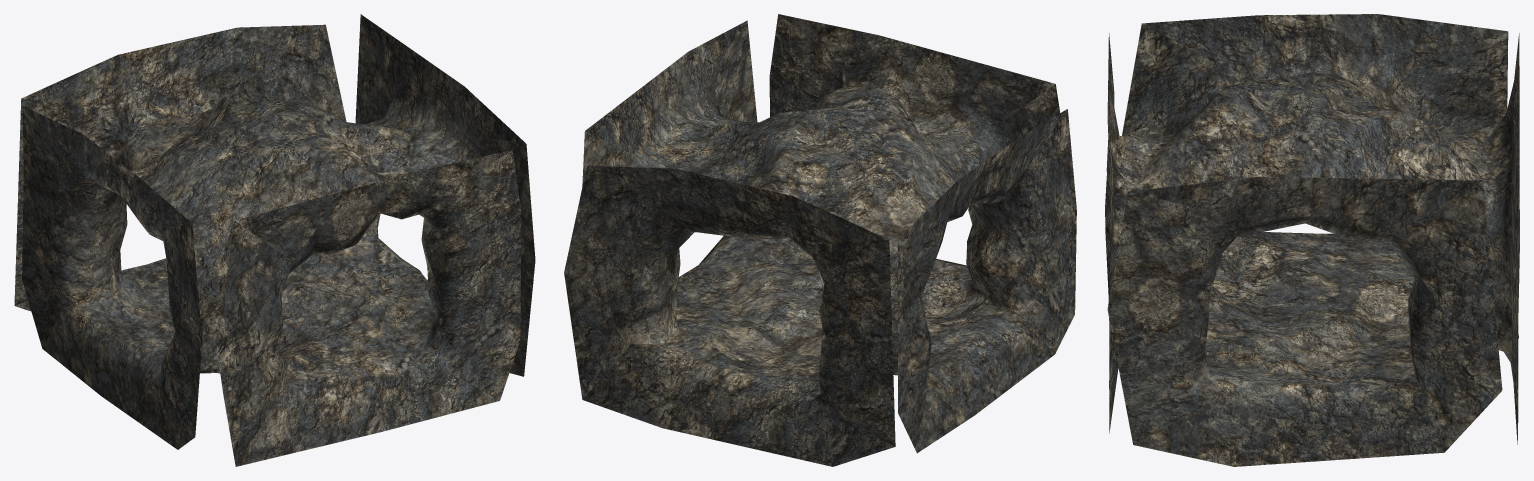
File: Module10.fbx
The picture shows the model from 3 angles, left to right: view 1: azimuth 30°, elevation 25°; view 2: azimuth 150°, elevation 25°; view 3: azimuth 270°, elevation 25°; orthographic projection. The views are drawn at different scales.
Visible parts, largest first — view 1: cave_el10_800:Group44752; view 2: cave_el10_800:Group44752; view 3: cave_el10_800:Group44752.
Part boxes in pixels (x1,y1,x2,y2): cave_el10_800:Group44752: (14, 14, 535, 466); cave_el10_800:Group44752: (564, 14, 1076, 466); cave_el10_800:Group44752: (1105, 14, 1519, 466).
Bounding box in the file's own units: 10.6 × 8.09 × 10.48.
